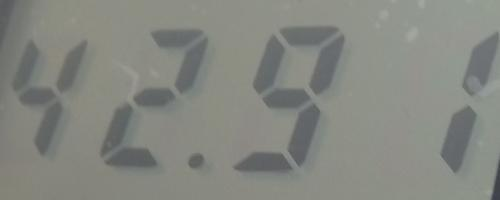.: (183, 146, 207, 174)
